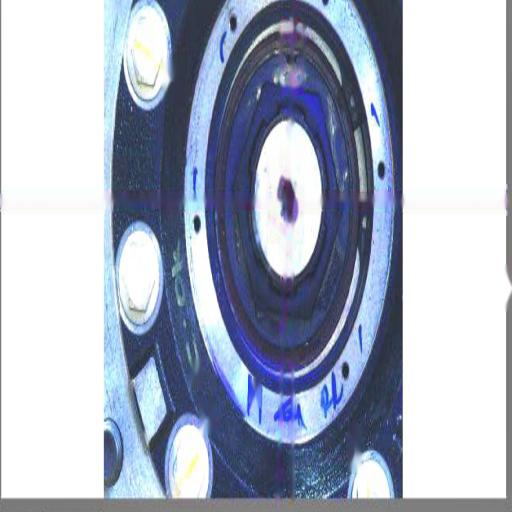center: (280, 177, 297, 231)
notch: (281, 48, 302, 70)
